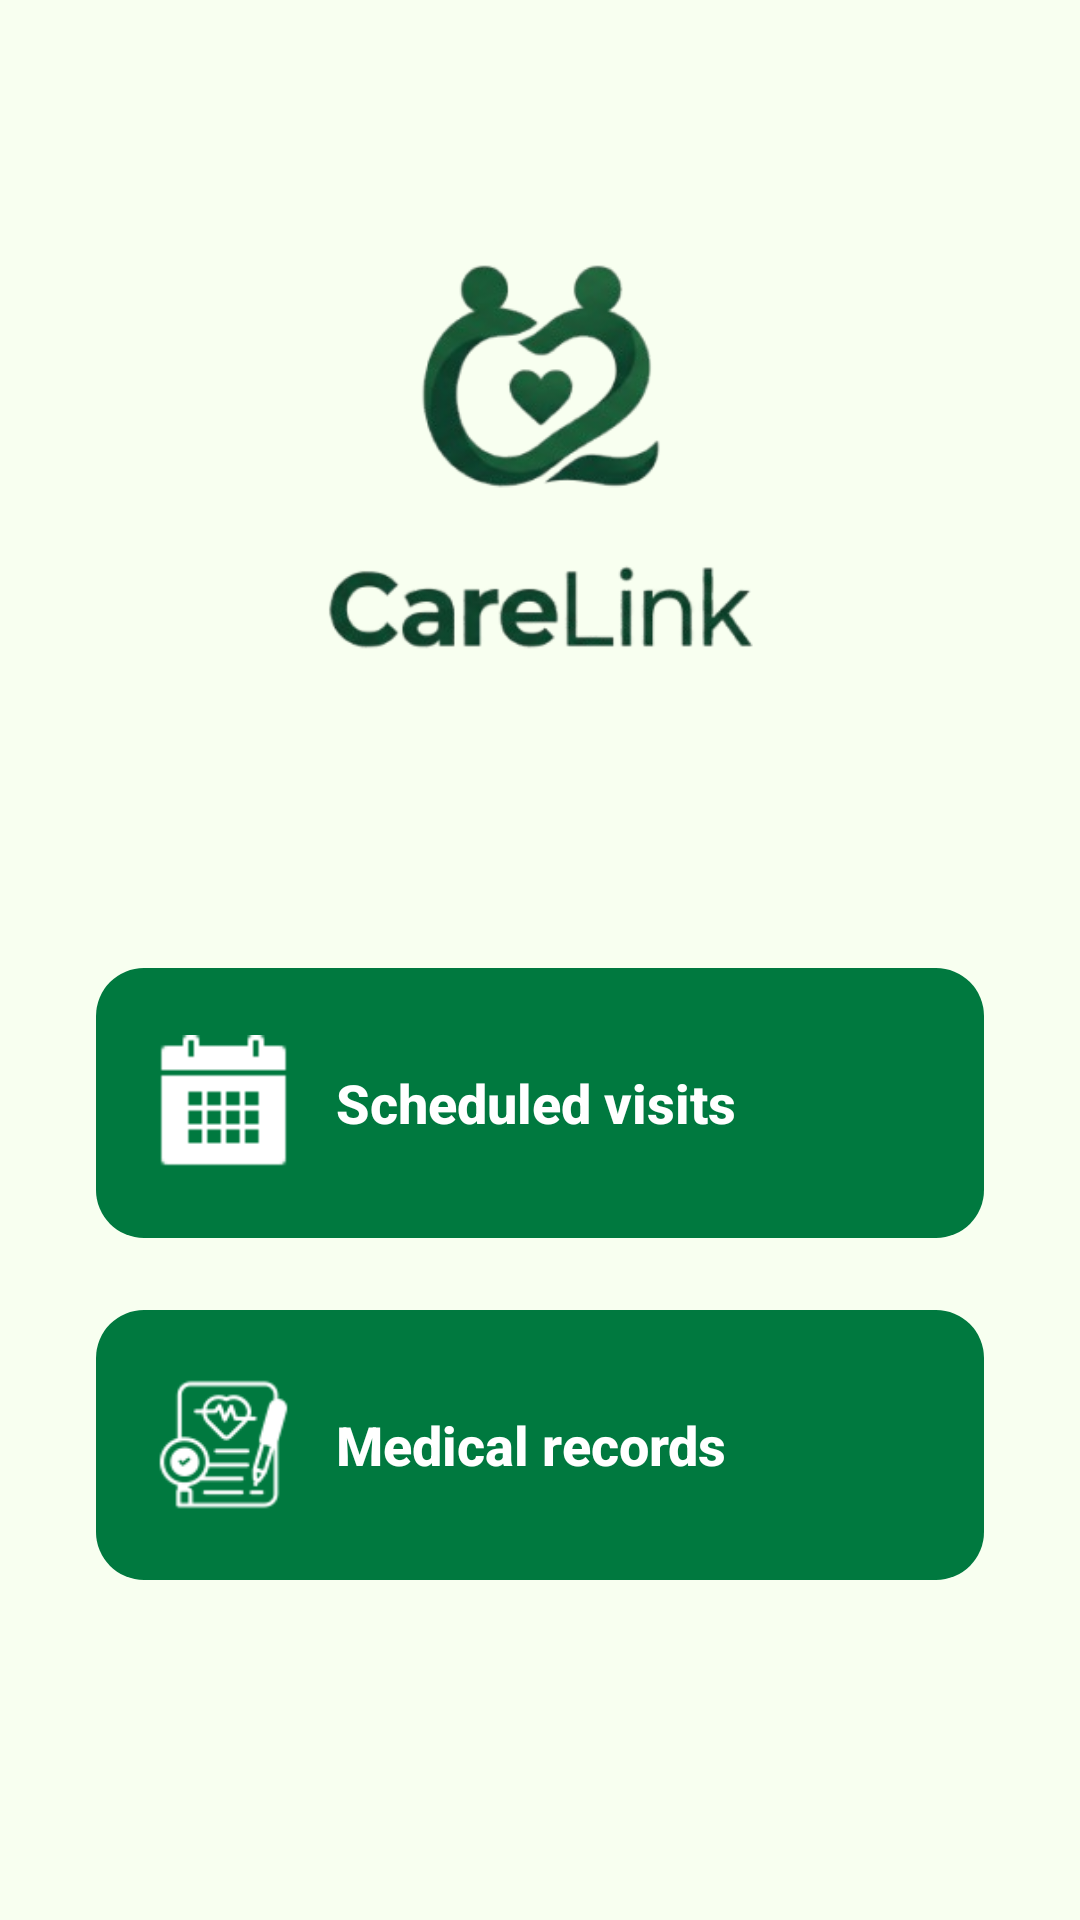

Named icons in this screenshot (1080*1920) and their centers, (x,y):
calendar: (223,1100)
